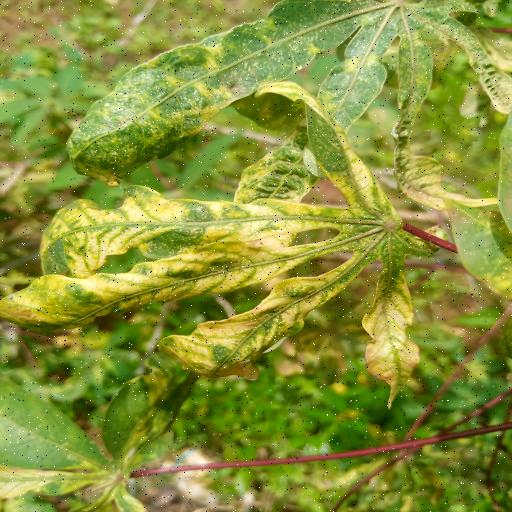Cassava_Mosaic: (0, 82, 512, 402), (67, 0, 507, 218), (0, 333, 218, 512)
